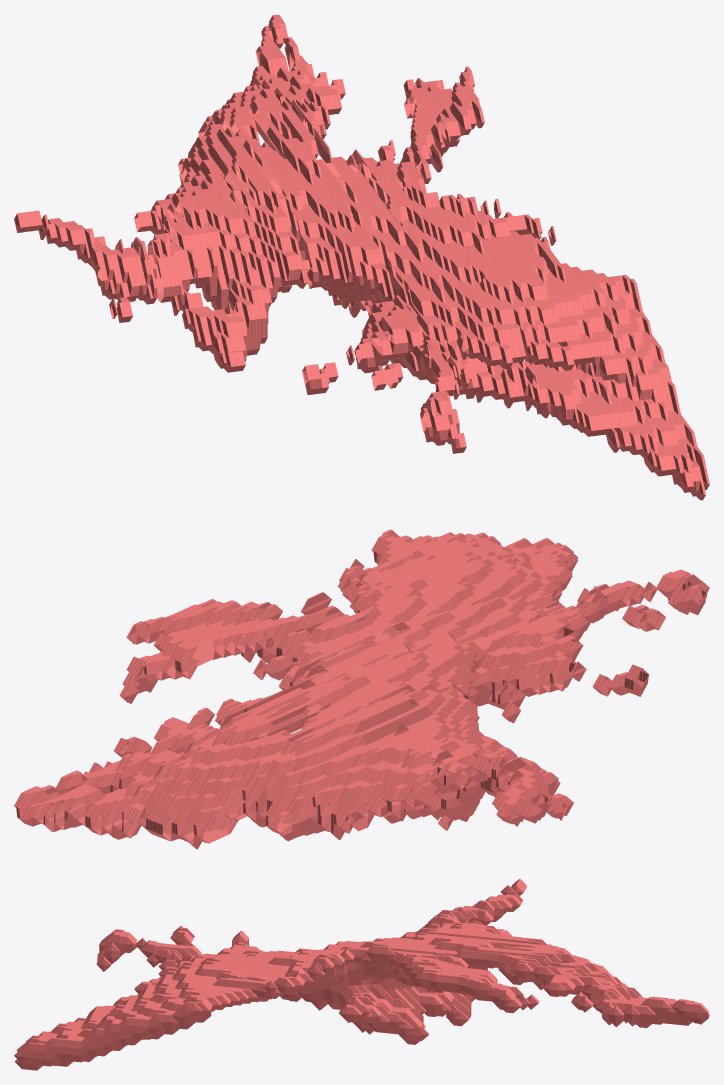
File: SVV_BWM-VR05.gltf
3 views of the same model, one above another, from view 1: azimuth 30°, elevation 25°; view 2: azimuth 150°, elevation 25°; view 3: azimuth 270°, elevation 25° (orthographic). The views are drawn at different scales.
Parts seen in each view (by area): view 1: BWM-VR05; view 2: BWM-VR05; view 3: BWM-VR05.
Boxes of the visible parts, box(x1,y1,x2,y2) form: BWM-VR05: box(14, 14, 709, 500); BWM-VR05: box(14, 529, 709, 849); BWM-VR05: box(14, 878, 709, 1070).
Size of the model in its own units: 30033 by 11862 by 59513.
